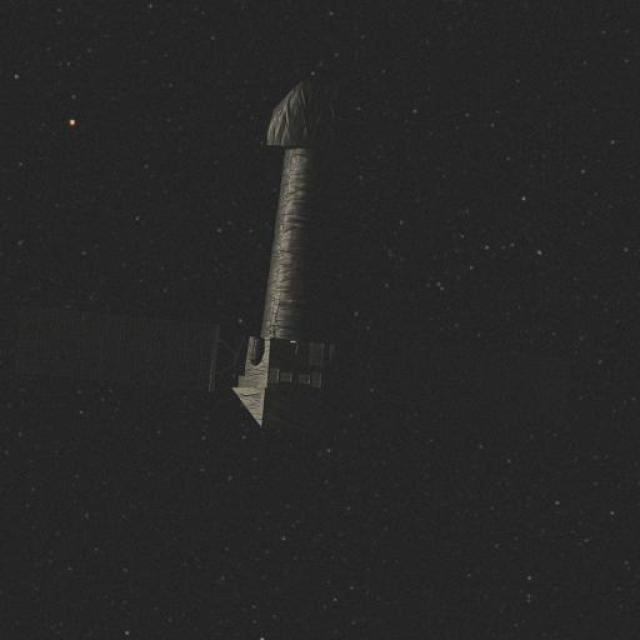xmm_newton: (32, 100, 405, 438)
